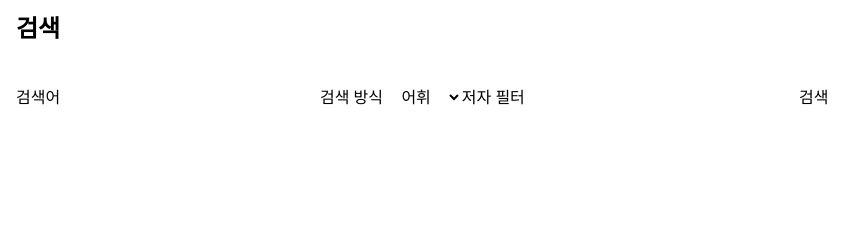
Scenario: U3 discovery surface › shows an explicit error state when retrieval fails
This screenshot has width=859, height=234.
Type "attention" into the field with test id "search-query" at (190, 98), box [60, 66, 320, 129]
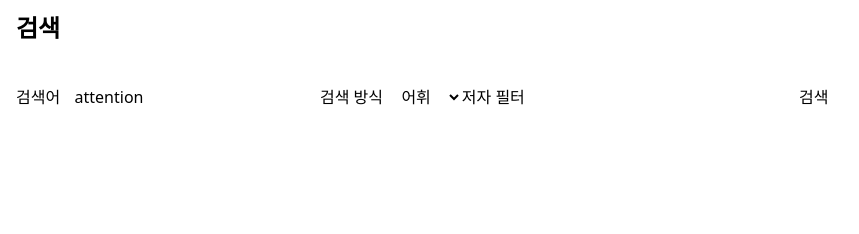
Click the button with test id "search-submit" at (814, 98), box [785, 76, 843, 120]
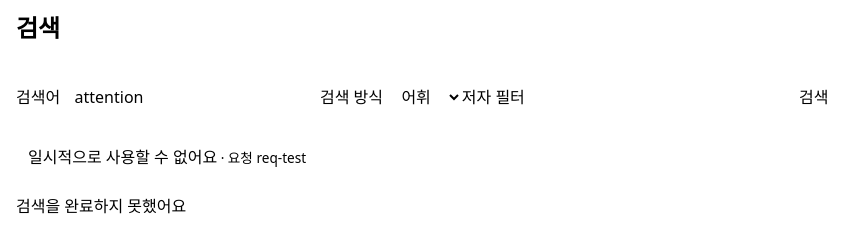
Result: the message with test id "search-status" reads "검색을 완료하지 못했어요" at [16, 195, 186, 217]
Result: the message with test id "status-line" shows "일시적으로 사용할 수 없어요" at [28, 146, 217, 168]
